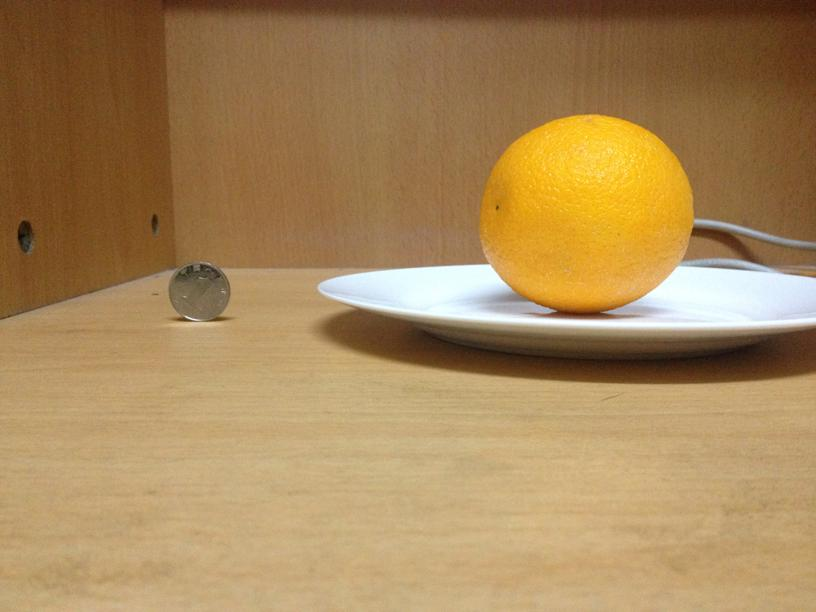coin: (166, 260, 230, 321)
orange: (481, 116, 697, 312)
